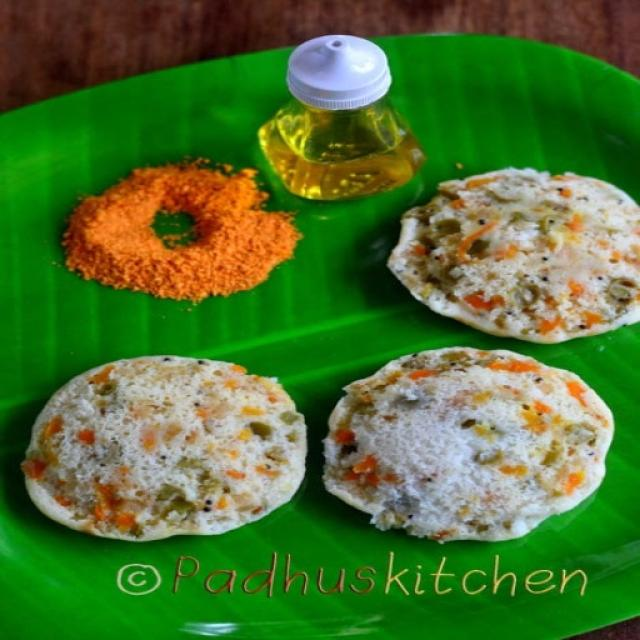IDLI: (322, 348, 612, 541), (21, 356, 305, 540), (388, 169, 639, 342)
PODI: (64, 159, 300, 301)
